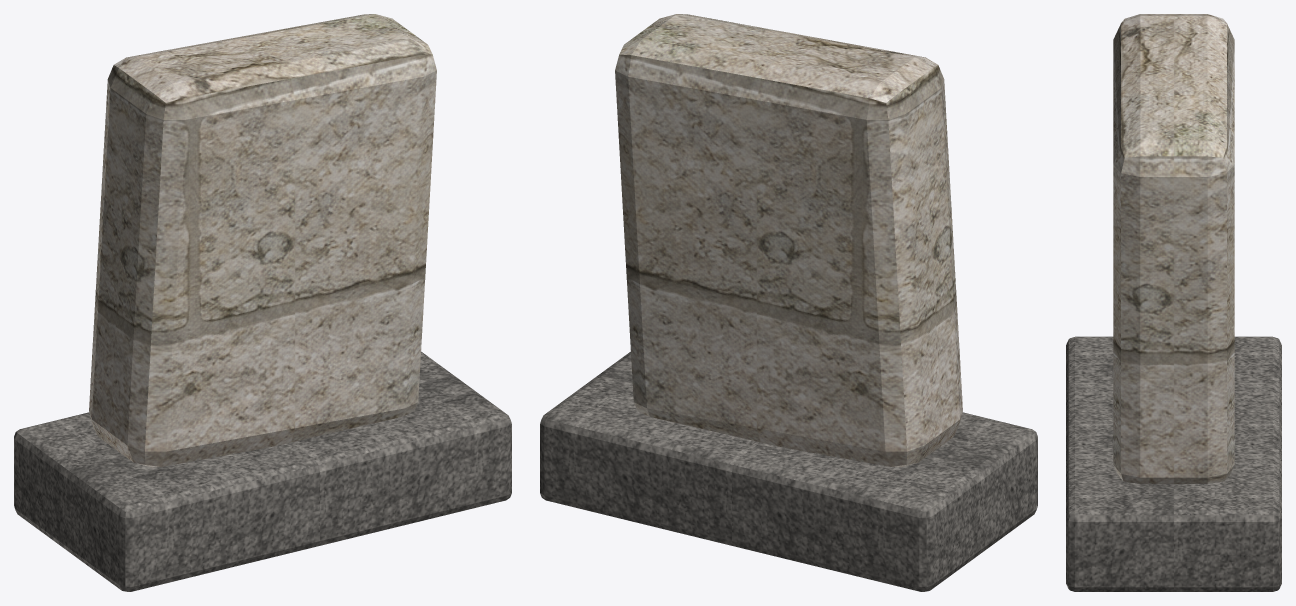
Rendered from headstone-weathered.glb.
3 renders of one model, left to right at view 1: azimuth 30°, elevation 25°; view 2: azimuth 150°, elevation 25°; view 3: azimuth 270°, elevation 25°, orthographic. The views are drawn at different scales.
Parts seen in each view (by area): view 1: headstone-weathered; view 2: headstone-weathered; view 3: headstone-weathered.
Part boxes in pixels (<box>): headstone-weathered: <box>14,14,511,591</box>; headstone-weathered: <box>540,14,1037,591</box>; headstone-weathered: <box>1066,14,1281,591</box>.
Size of the model in its own units: 0.95 by 1.08 by 0.48.
2 materials, 2 textured.
